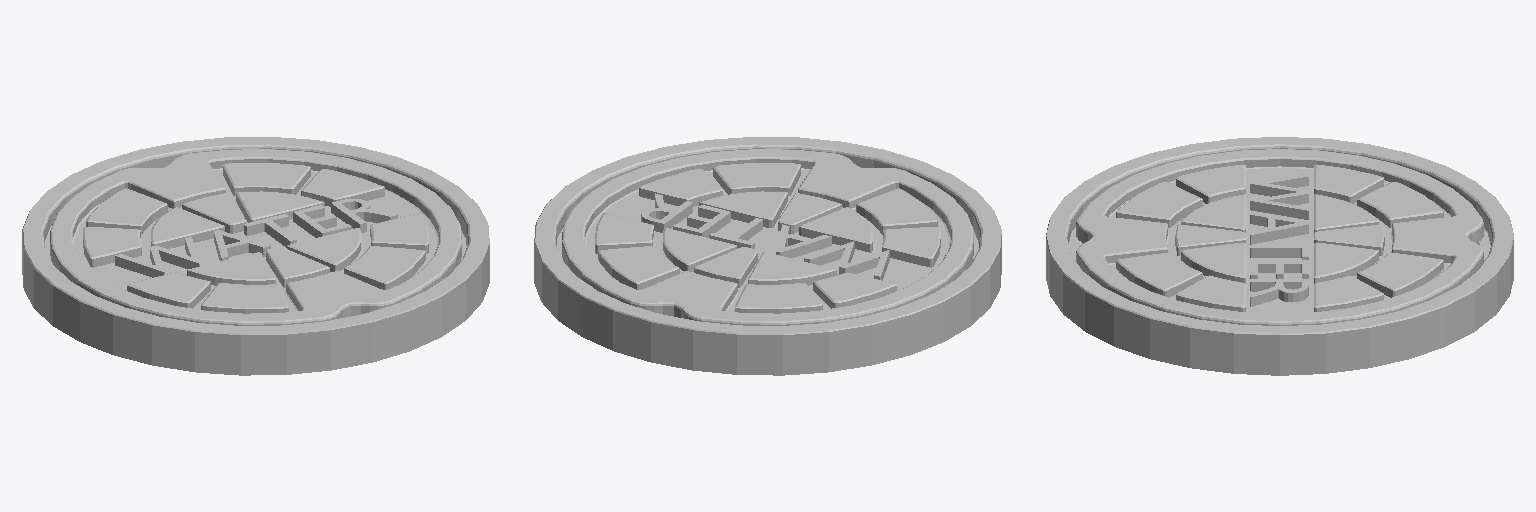
File: water_manhole_cover_4k.obj
3 renders of one model, left to right at view 1: azimuth 30°, elevation 25°; view 2: azimuth 150°, elevation 25°; view 3: azimuth 270°, elevation 25°, orthographic.
Visible parts, largest first — view 1: water_manhole_cover, water_manhole_cover_frame; view 2: water_manhole_cover, water_manhole_cover_frame; view 3: water_manhole_cover, water_manhole_cover_frame.
Boxes of the visible parts, x1,y1,x2,y2 form: water_manhole_cover: [50, 149, 461, 325]; water_manhole_cover_frame: [22, 137, 489, 375]; water_manhole_cover: [562, 149, 973, 325]; water_manhole_cover_frame: [534, 137, 1001, 375]; water_manhole_cover: [1076, 149, 1483, 325]; water_manhole_cover_frame: [1046, 137, 1513, 375].
Bounding box in the file's own units: 0.6908 × 0.0676 × 0.6908.